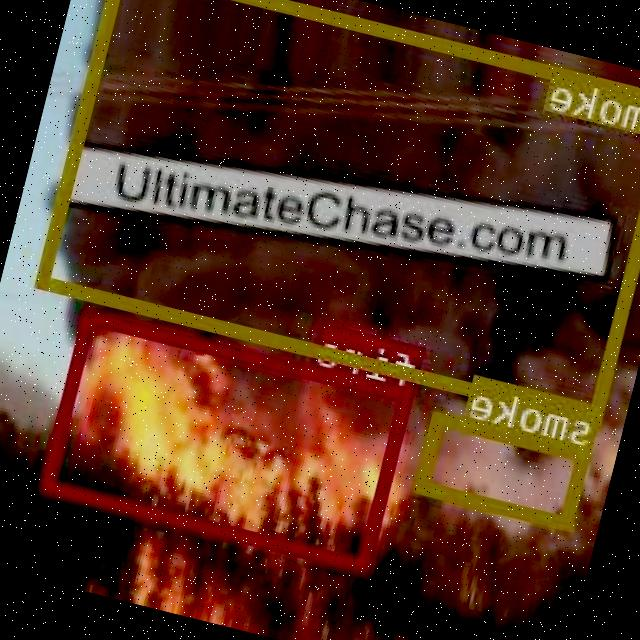fire: (43, 309, 416, 571)
smoke: (36, 0, 640, 425), (418, 409, 594, 528)
